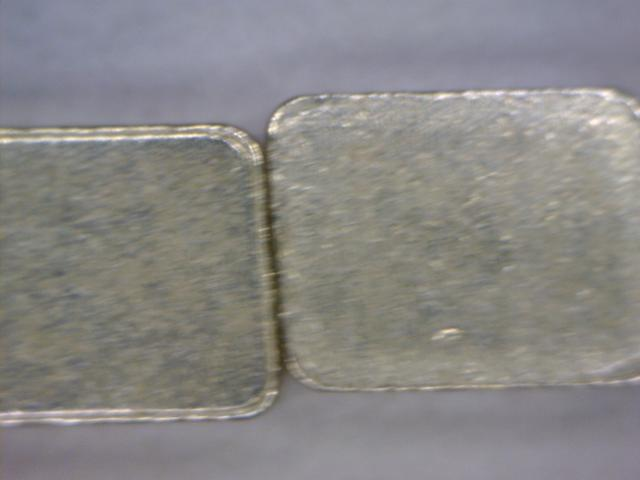ok: (267, 81, 640, 394)
